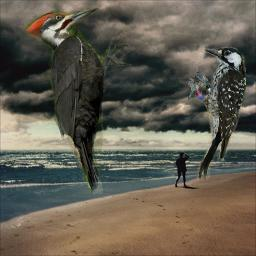Woodpecker: (24, 7, 131, 194), (188, 47, 246, 180)
